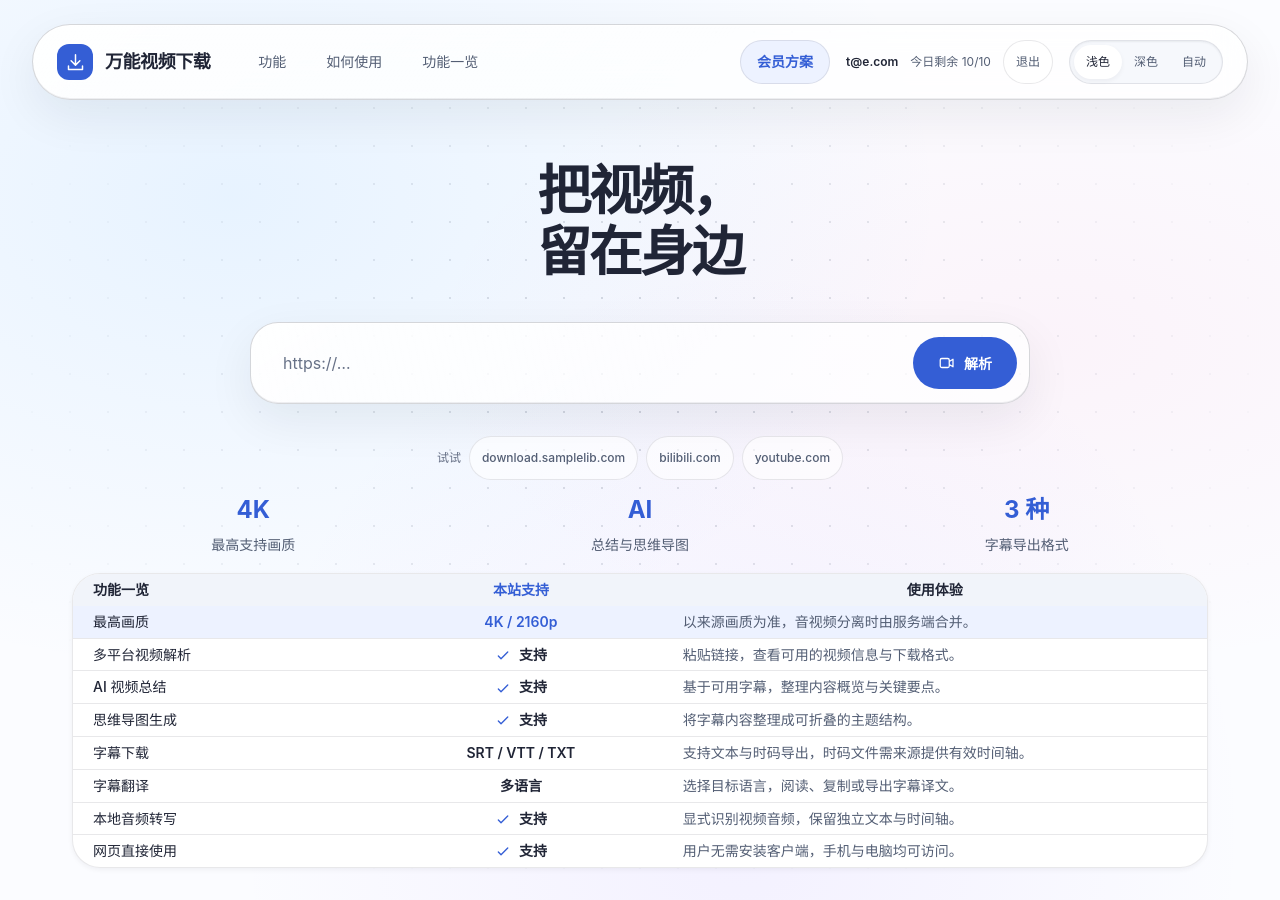
Test case: App 功能闭环 › 解析失败进入错误场景
In the field named "视频链接": coordinates (582, 363) [263, 335, 901, 391], type "not-a-url"
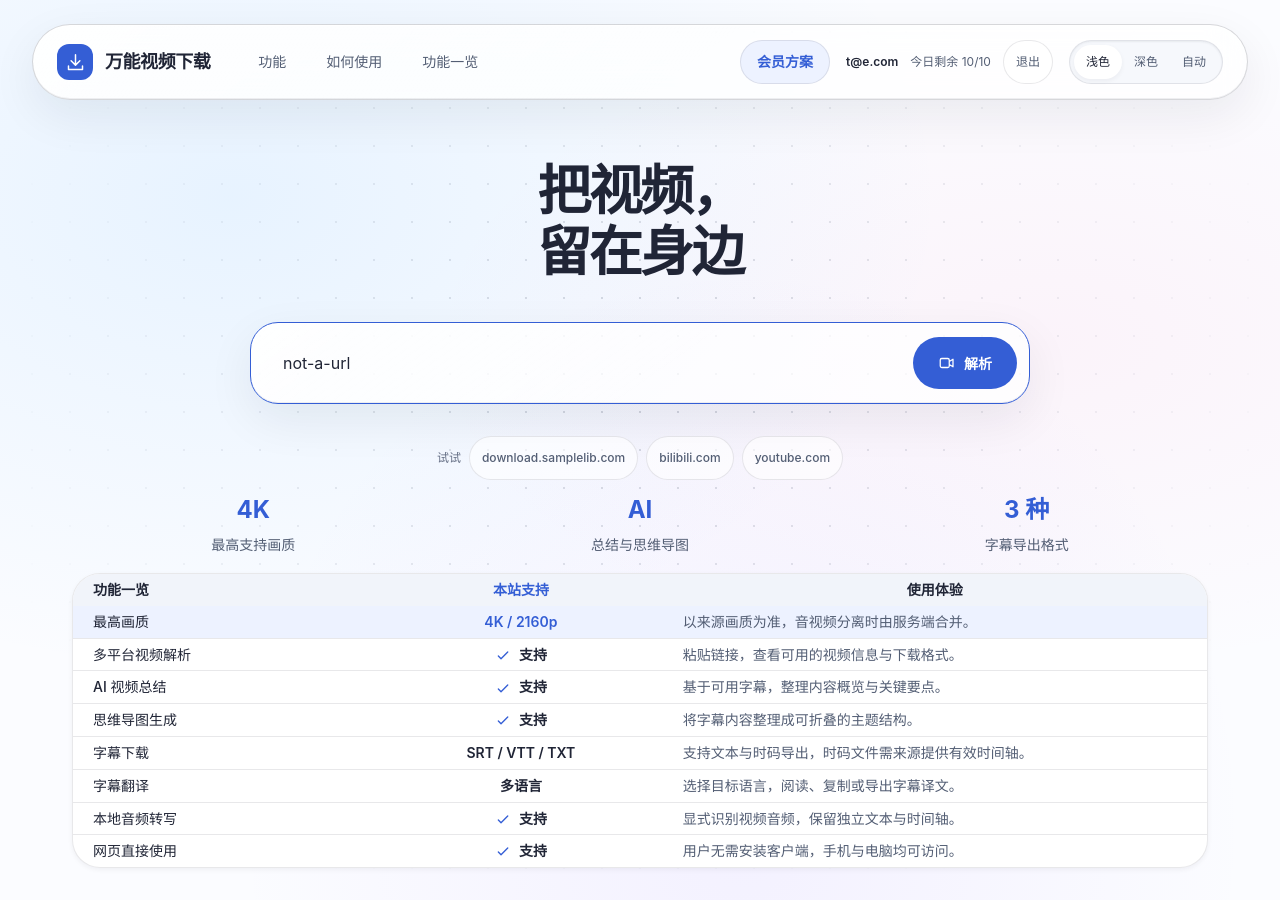
Click the button "解析": coordinates (965, 363) [913, 337, 1017, 389]
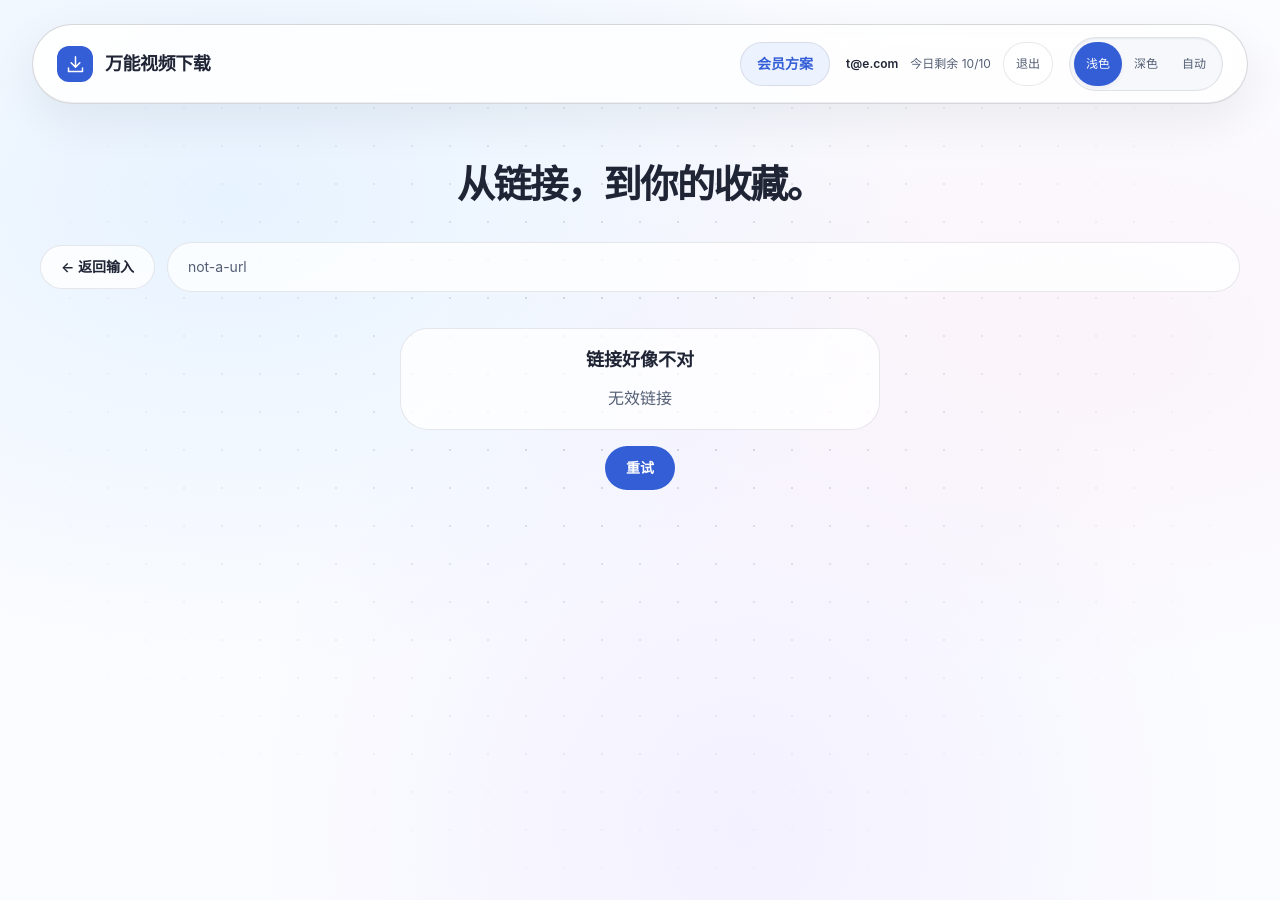
Expected: the element with test id "error-scene" is shown, [400, 328, 880, 490]
Expected: the heading "链接好像不对" is shown, [586, 345, 694, 375]
